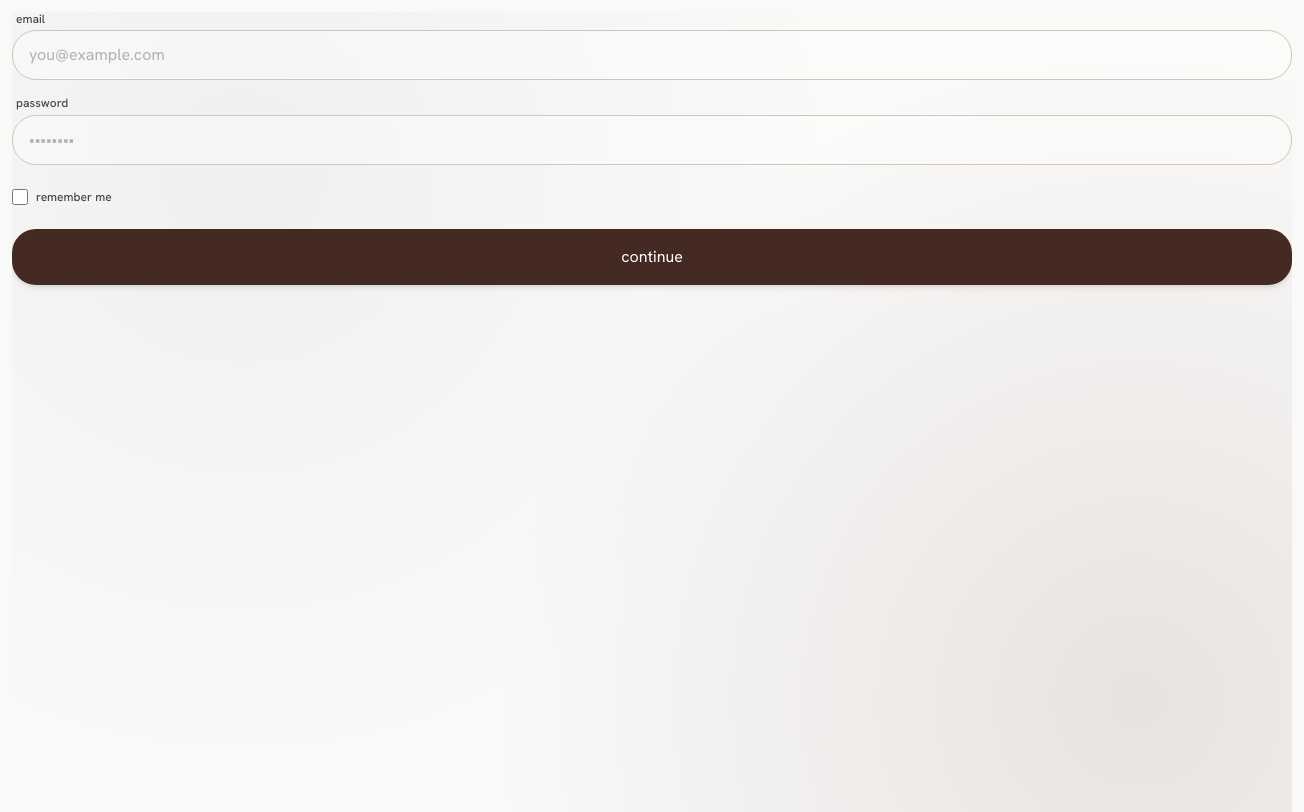
Test case: LoginForm › blocks invalid email submission
The width and height of the screenshot is (1304, 812).
Type "invalid" into the field labelled "email" at (652, 55), box [12, 30, 1292, 80]
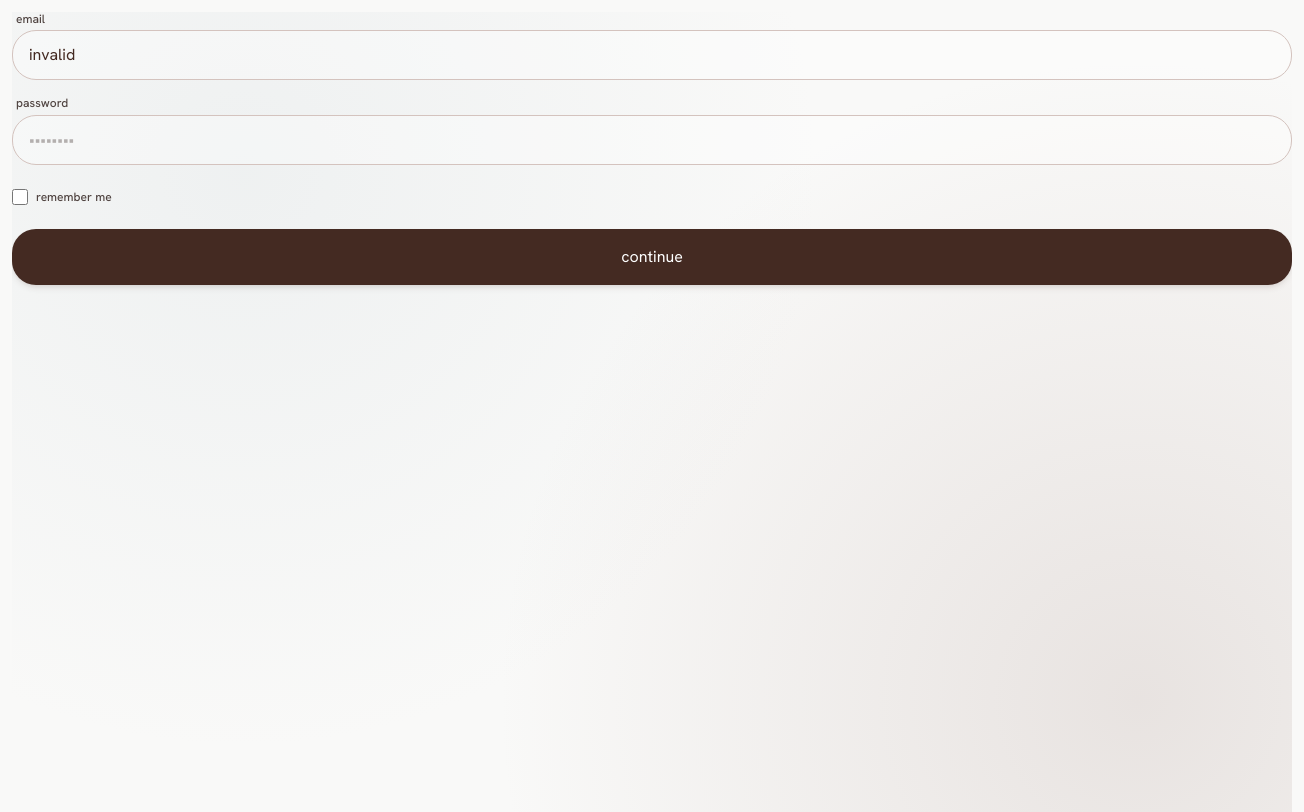
Click the button "continue" at (652, 257), box [12, 229, 1292, 285]
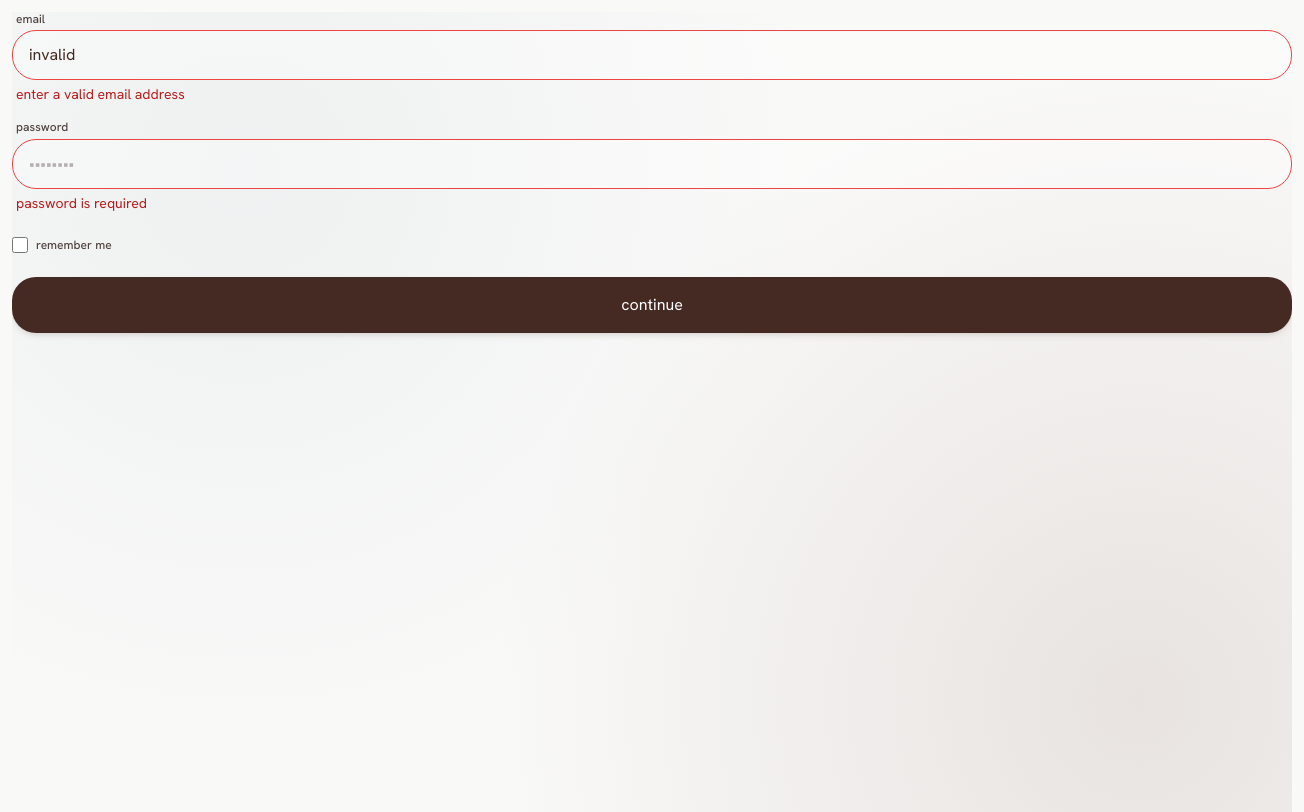
Expected: the text "enter a valid email address" is shown, [16, 85, 185, 103]
